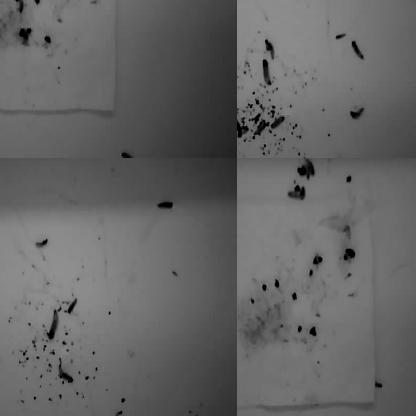PtecticusTenebrifer: (47, 309, 60, 340), (351, 40, 364, 61), (262, 60, 271, 89), (349, 106, 365, 120), (271, 114, 285, 130), (265, 39, 275, 60), (305, 158, 316, 177), (58, 372, 74, 384), (303, 164, 313, 181), (68, 298, 78, 314), (35, 238, 48, 250), (120, 149, 137, 158), (288, 190, 303, 200), (237, 108, 244, 127), (158, 202, 174, 210), (102, 0, 113, 11), (77, 0, 92, 8), (16, 0, 25, 13), (0, 0, 6, 19), (89, 0, 103, 8), (237, 84, 244, 97), (0, 174, 8, 184), (56, 0, 71, 5), (35, 158, 50, 163), (0, 358, 6, 370), (226, 0, 237, 6), (0, 3, 3, 24), (0, 44, 6, 54), (237, 0, 246, 6), (0, 290, 6, 298), (237, 0, 242, 9)
